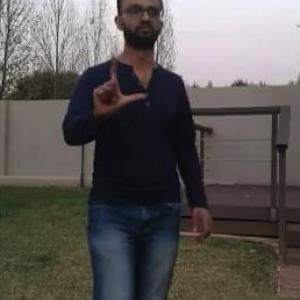land_hand: (90, 43, 150, 115)
